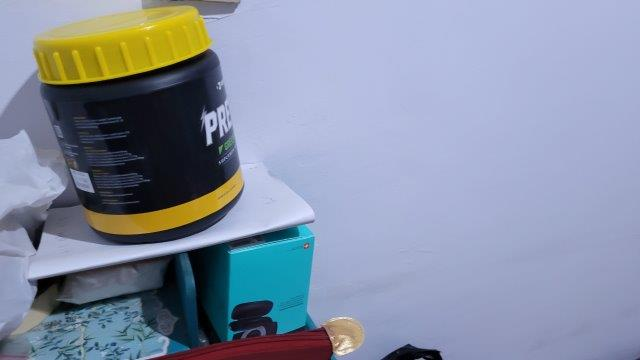kertas: (26, 161, 314, 284)
